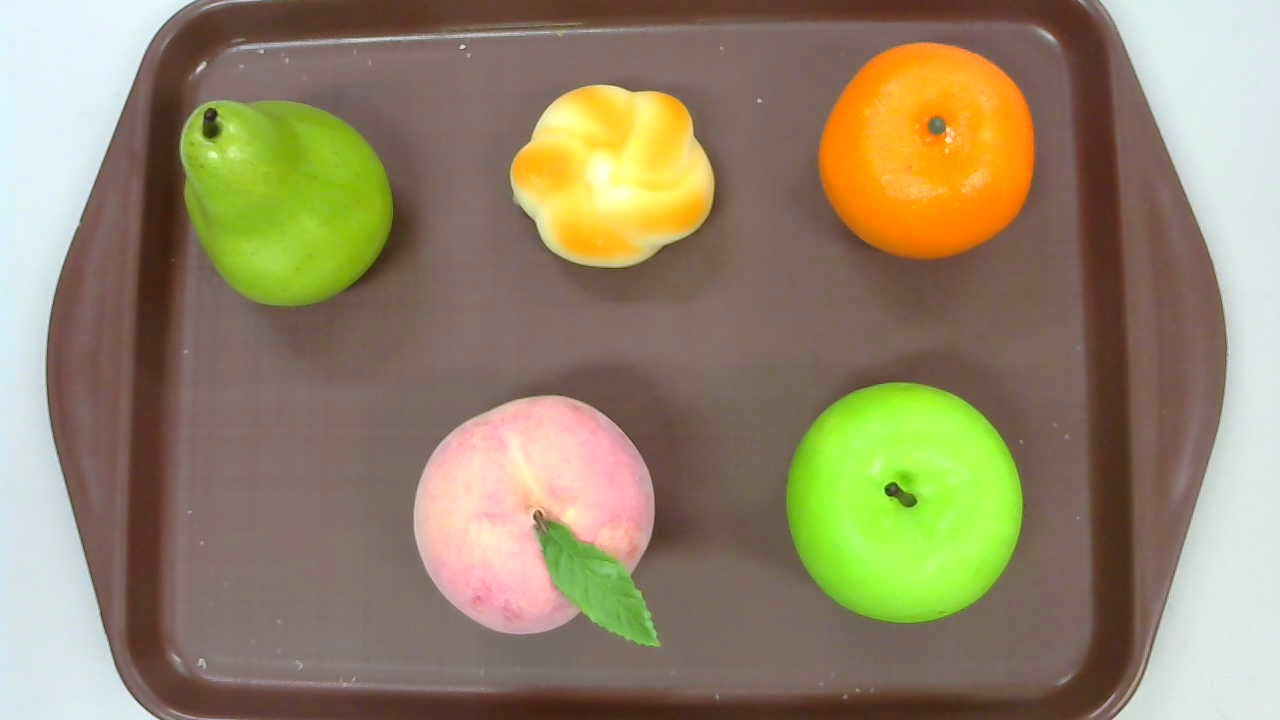green apple: (785, 381, 1022, 624)
green pear: (178, 98, 393, 310)
orange: (817, 41, 1035, 261)
peach: (412, 393, 663, 647)
twist bread: (510, 84, 715, 268)
